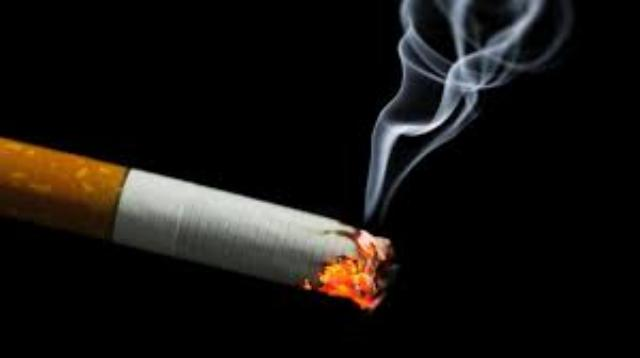Cigarette: (0, 130, 394, 310)
